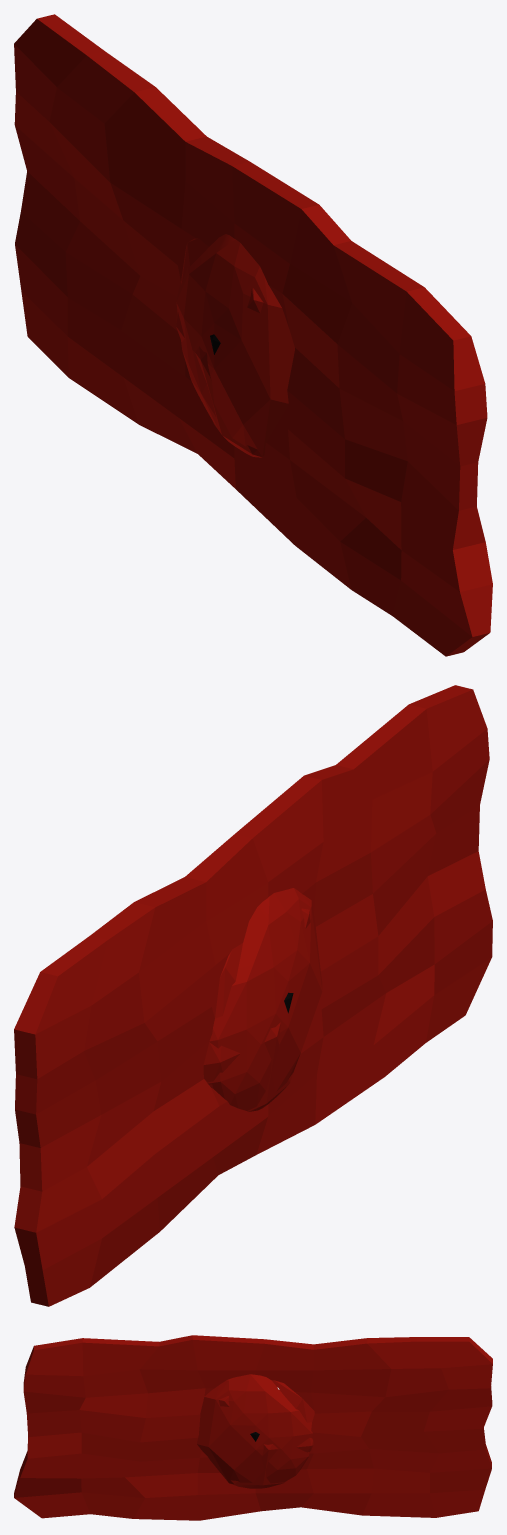
File: wall.fbx
3 renders of one model, top to bottom at view 1: azimuth 30°, elevation 25°; view 2: azimuth 150°, elevation 25°; view 3: azimuth 270°, elevation 25°, orthographic. The views are drawn at different scales.
Parts seen in each view (by area): view 1: Wall, EyelidClosed; view 2: Wall, EyelidClosed; view 3: Wall, EyelidClosed.
Boxes of the visible parts, left/top/right/bottom form: Wall: left=14, top=14, right=492, bottom=656; EyelidClosed: left=176, top=234, right=294, bottom=457; Wall: left=14, top=685, right=492, bottom=1306; EyelidClosed: left=203, top=888, right=322, bottom=1111; Wall: left=14, top=1335, right=492, bottom=1520; EyelidClosed: left=197, top=1374, right=314, bottom=1488.
Size of the model in its own units: 321 by 1389 by 3377.
